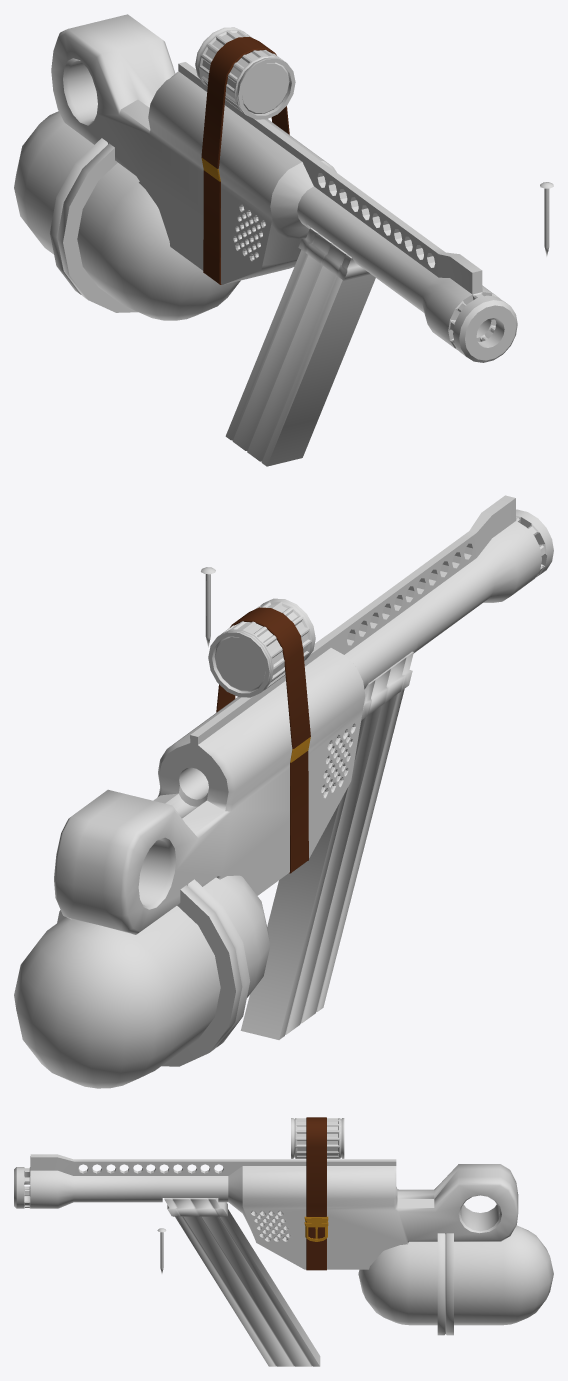
Rendered from Cog Rivet Gun v-slice.FBX.
The picture shows the model from 3 angles, top to bottom: view 1: azimuth 30°, elevation 25°; view 2: azimuth 150°, elevation 25°; view 3: azimuth 270°, elevation 25°; orthographic projection. The views are drawn at different scales.
Visible parts, largest first — view 1: Barrel, Sphere002, Clip, Line005, Cylinder002, Object001; view 2: Barrel, Sphere002, Clip, Line005, Cylinder002, Object001; view 3: Barrel, Sphere002, Clip, Line005, Cylinder002, Object002.
Part boxes in pixels (x1,y1,x2,y2): Barrel: [50, 14, 517, 362]; Sphere002: [14, 111, 240, 320]; Clip: [225, 228, 375, 466]; Line005: [201, 36, 289, 284]; Cylinder002: [195, 27, 295, 119]; Object001: [242, 62, 289, 113]; Barrel: [54, 495, 553, 1066]; Sphere002: [14, 875, 270, 1088]; Clip: [240, 651, 413, 1039]; Line005: [216, 607, 310, 873]; Cylinder002: [208, 598, 315, 697]; Object001: [214, 636, 265, 691]; Barrel: [14, 1154, 518, 1335]; Sphere002: [358, 1225, 553, 1325]; Clip: [164, 1198, 320, 1366]; Line005: [306, 1117, 326, 1270]; Cylinder002: [291, 1118, 344, 1158]; Object002: [304, 1216, 328, 1241].
Size of the model in its own units: 18.69 by 26.07 by 52.68.
